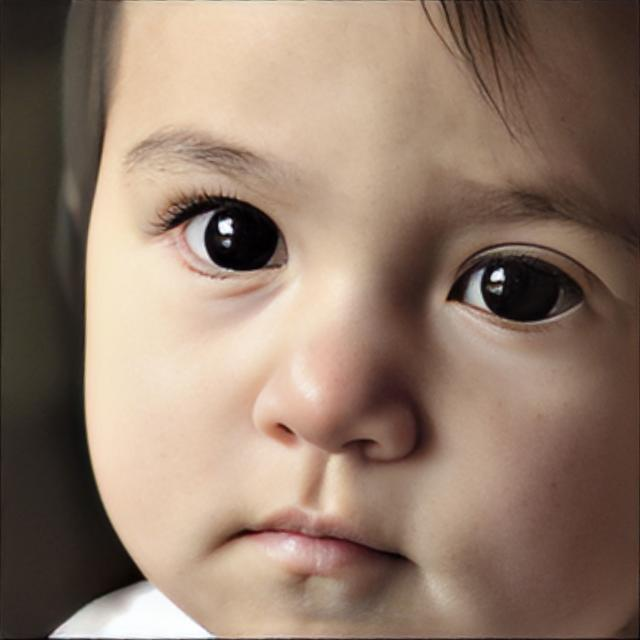sad: (79, 0, 632, 638)
